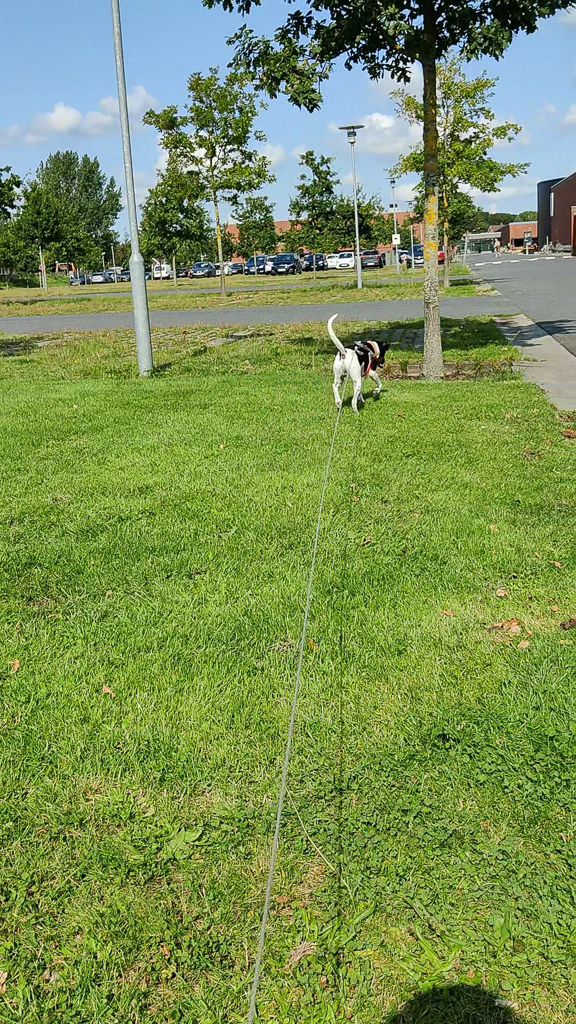Dog: (318, 308, 399, 419)
